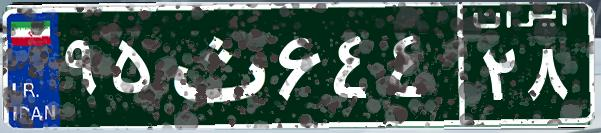2: (475, 38, 525, 113)
4: (385, 28, 445, 110), (330, 28, 385, 110)
5: (110, 28, 158, 105)
6: (273, 28, 330, 110)
8: (525, 38, 570, 115)
9: (57, 26, 110, 107)
ث: (158, 15, 273, 115)
